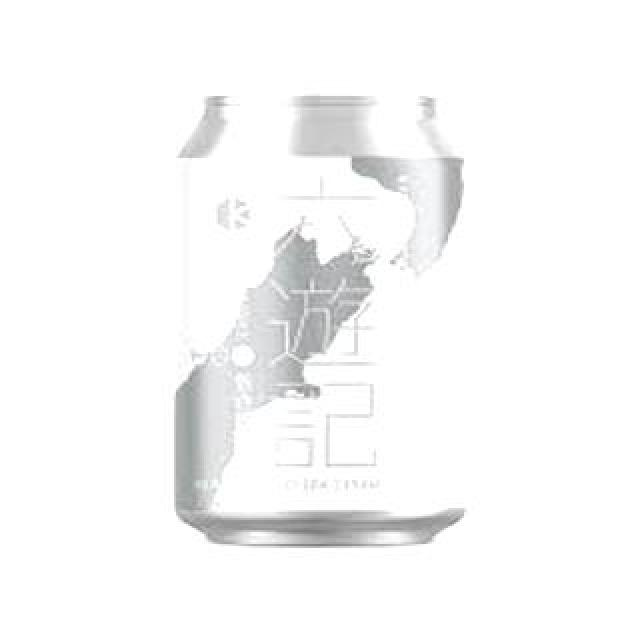Can: (166, 88, 498, 550)
